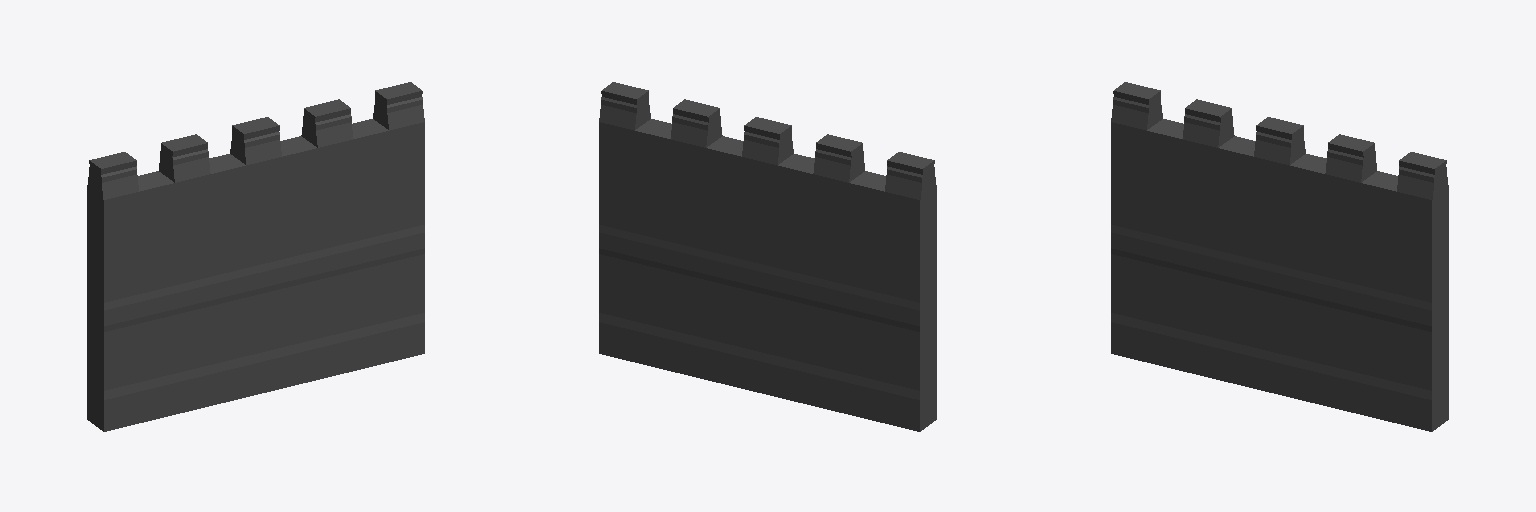
The model's file is fal.obj.
The picture shows the model from 3 angles: view 1: azimuth 30°, elevation 25°; view 2: azimuth 150°, elevation 25°; view 3: azimuth 330°, elevation 25°; orthographic projection.
Visible parts, largest first — view 1: Cube; view 2: Cube; view 3: Cube.
Part boxes in pixels (x1,y1,x2,y2): Cube: (87,82,424,431); Cube: (599,82,936,431); Cube: (1111,82,1448,431).
Size of the model in its own units: 21.14 by 16.41 by 2.